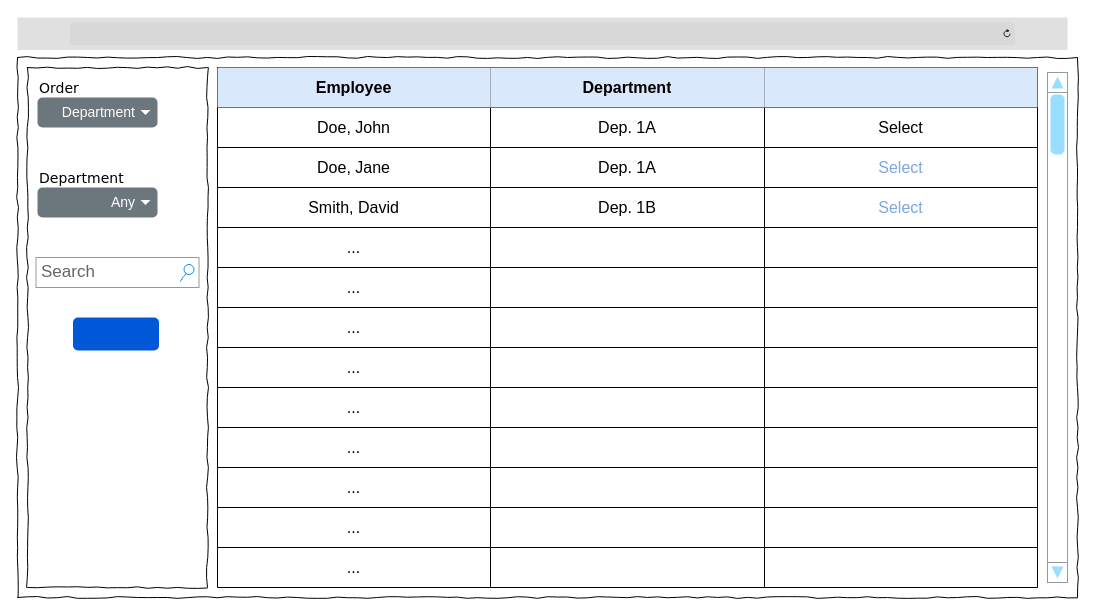
Some shapes in this 1095 by 615 pixel diagram are drawn without their labels. Each missing label, with the centre of its shape:
"Apply" belongs at (115,333).
"companyitassets/hwassets/employees" belongs at (542,33).
